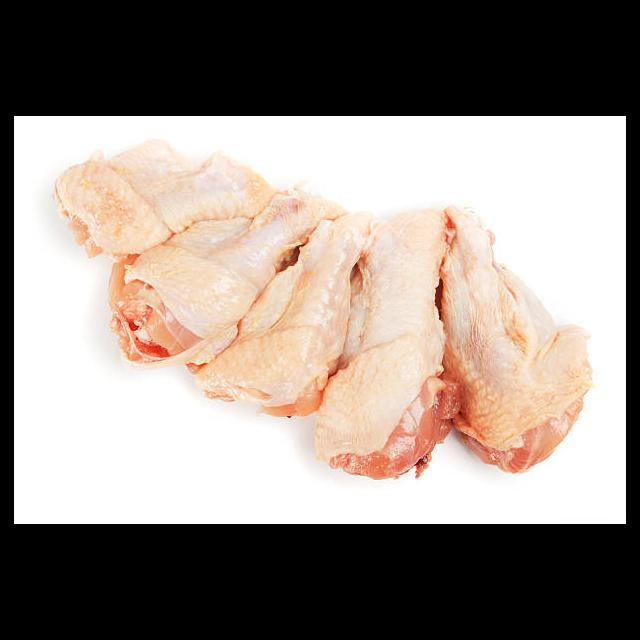chicken: (106, 186, 346, 371), (436, 205, 592, 473), (316, 205, 455, 491), (191, 200, 370, 419), (51, 138, 280, 263)
